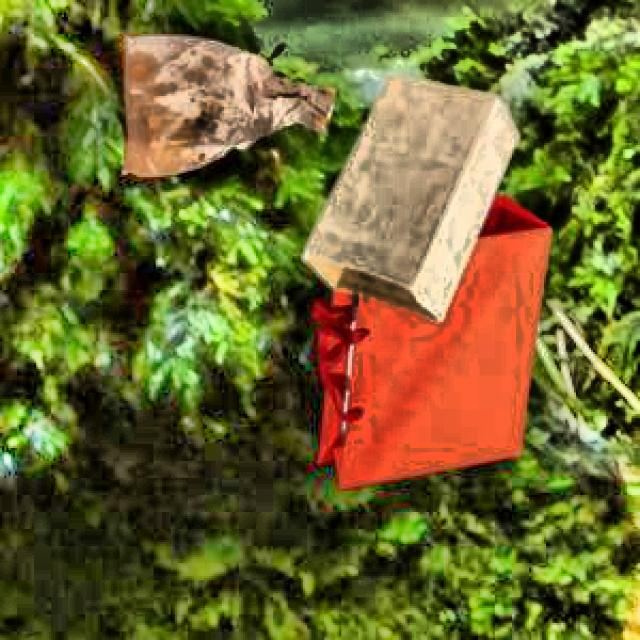Paper-bag: (312, 156, 568, 522), (309, 61, 512, 343), (92, 20, 331, 182)
